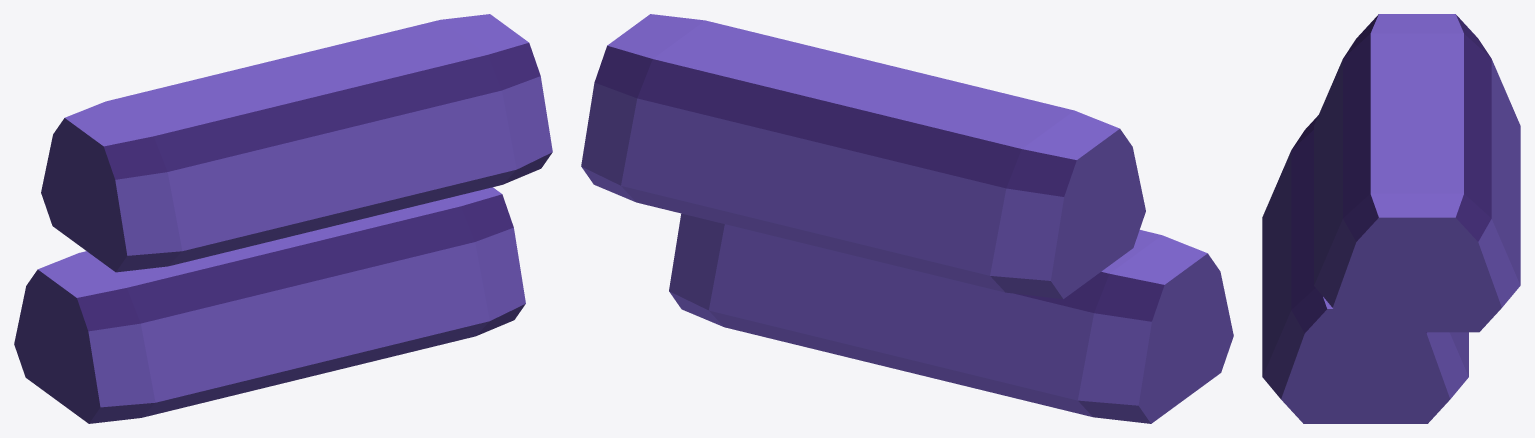
Rendered from demonite_bar.glb.
The picture shows the model from 3 angles, left to right: view 1: azimuth 30°, elevation 25°; view 2: azimuth 150°, elevation 25°; view 3: azimuth 270°, elevation 25°; orthographic projection. The views are drawn at different scales.
Parts seen in each view (by area): view 1: demonite_bar_v0; view 2: demonite_bar_v0; view 3: demonite_bar_v0.
Part boxes in pixels (<box>): demonite_bar_v0: <box>14,14,552,423</box>; demonite_bar_v0: <box>581,14,1233,423</box>; demonite_bar_v0: <box>1262,14,1520,423</box>.
Size of the model in its own units: 0.315 by 0.15 by 0.15.
